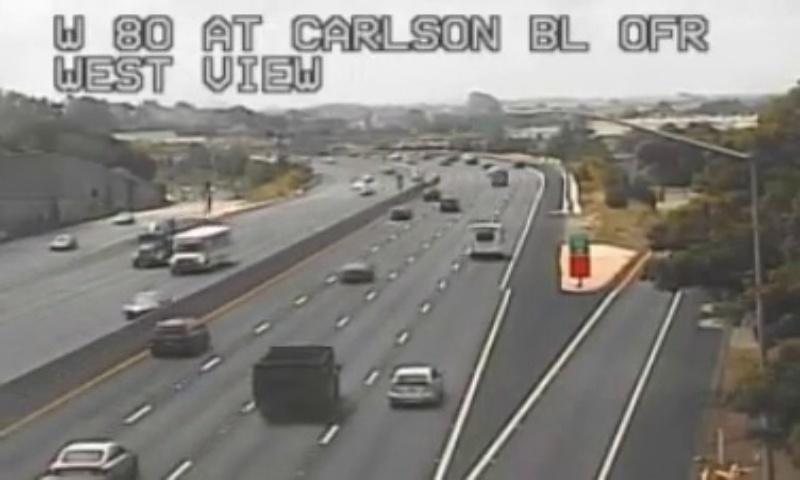bus: (465, 223, 502, 258)
car: (51, 440, 138, 480), (150, 319, 210, 357), (389, 366, 440, 407)
small-truck: (252, 344, 336, 408)
